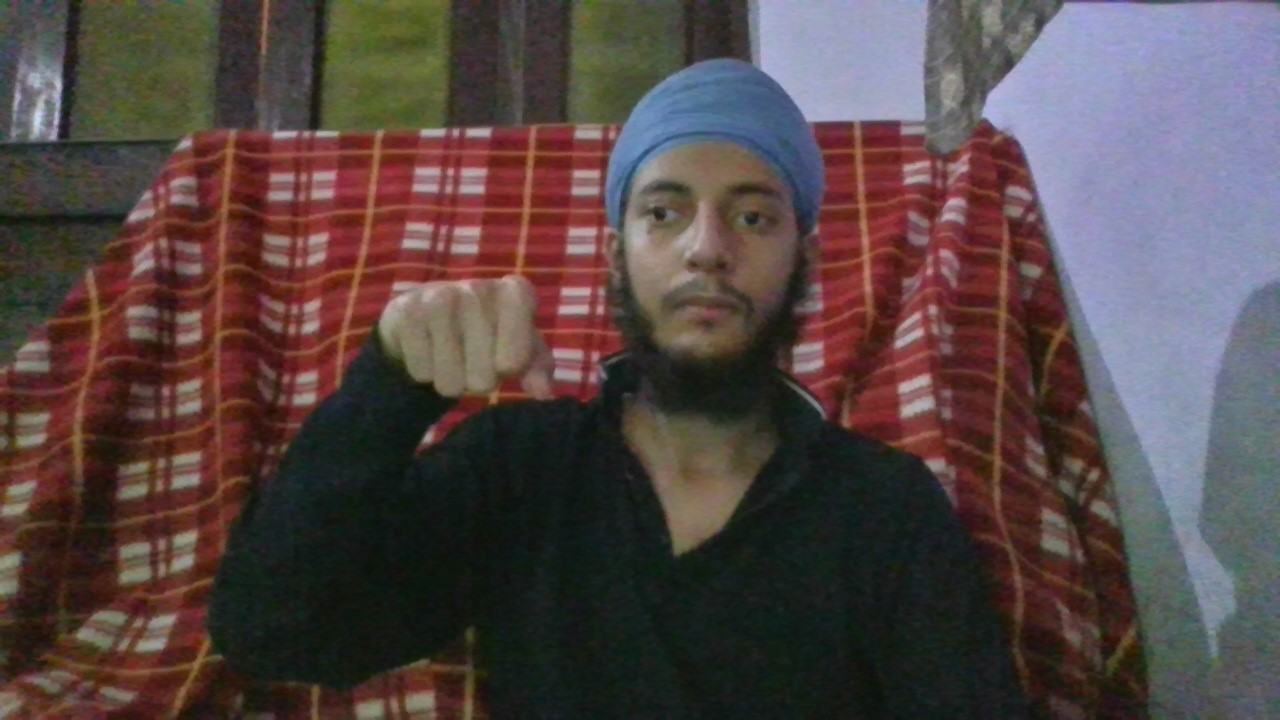Yes: (383, 273, 560, 406)
